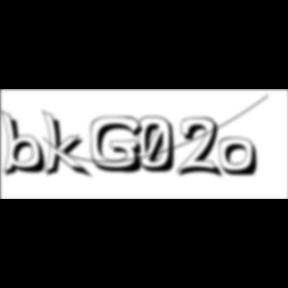0: (138, 115, 184, 174)
2: (177, 117, 227, 181)
G: (91, 116, 150, 176)
b: (0, 109, 54, 179)
k: (42, 108, 94, 181)
o: (219, 137, 261, 179)
